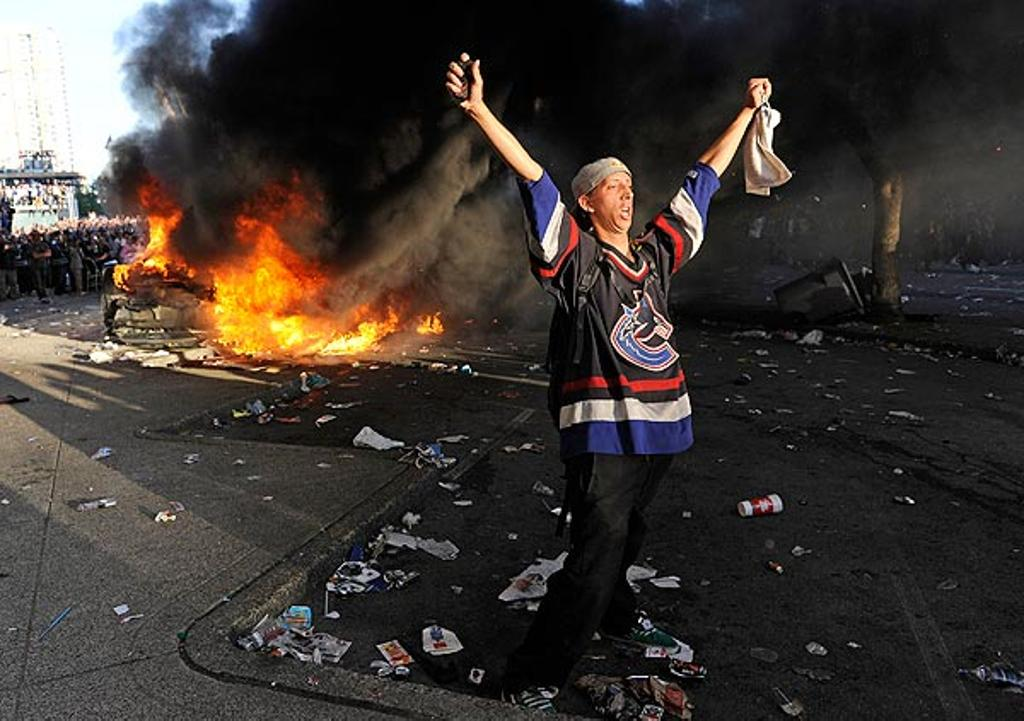face: (595, 174, 633, 230), (120, 252, 134, 267), (132, 240, 141, 249), (35, 239, 40, 245), (102, 232, 107, 238)
